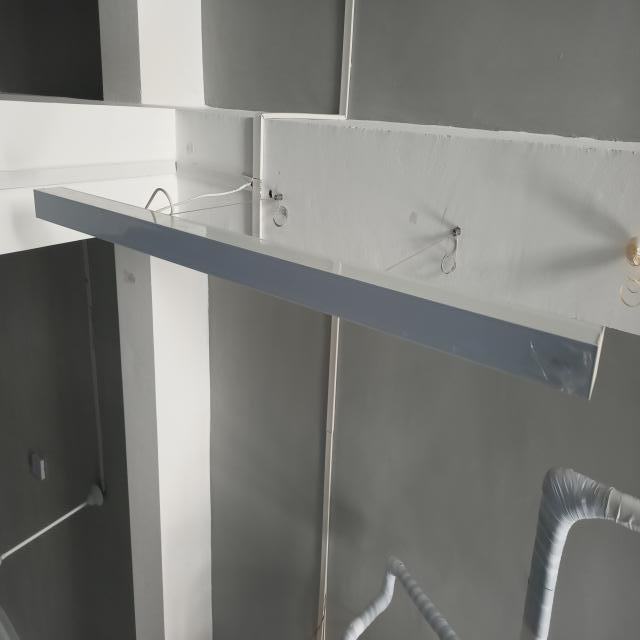fluorescent tube: (32, 181, 613, 410)
